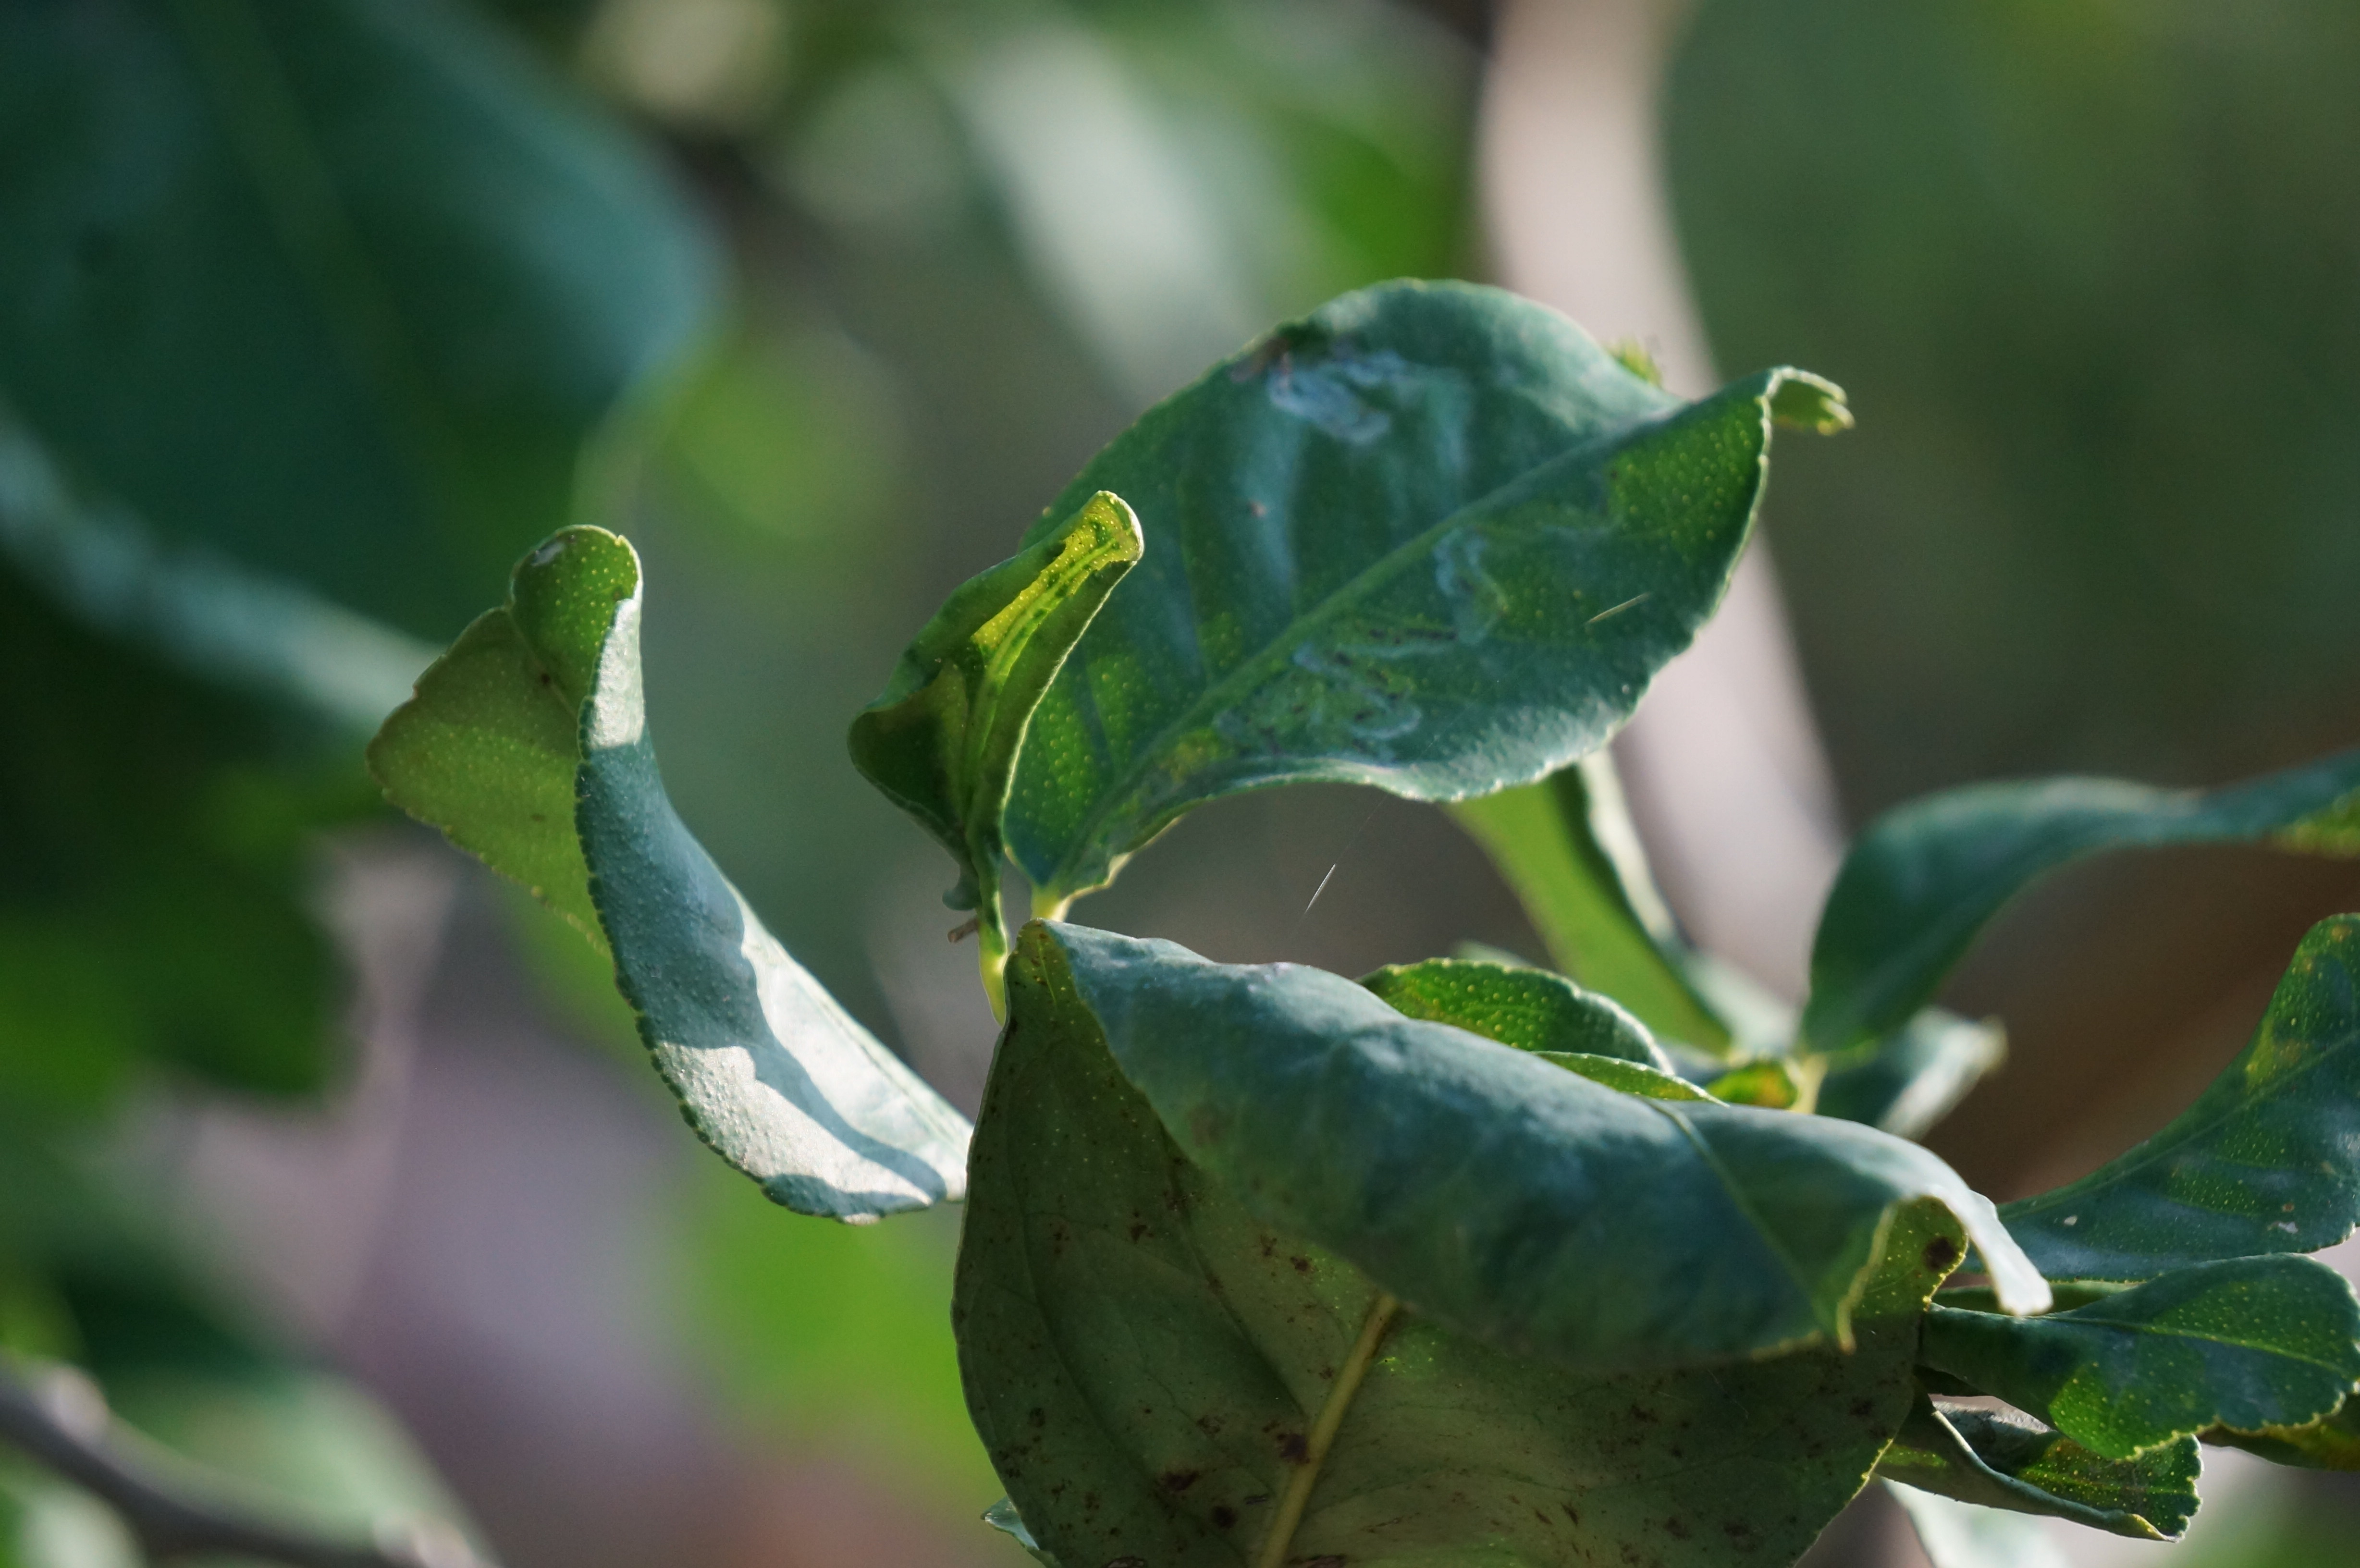curly: (838, 483, 1149, 926)
damage: (1195, 507, 1524, 829), (1253, 329, 1415, 455)
